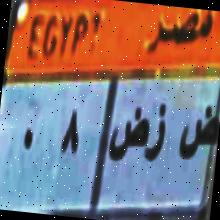0: (19, 122, 37, 157)
8: (61, 106, 83, 156)
daad: (174, 95, 220, 165), (108, 98, 149, 174)
zay: (146, 100, 170, 167)
